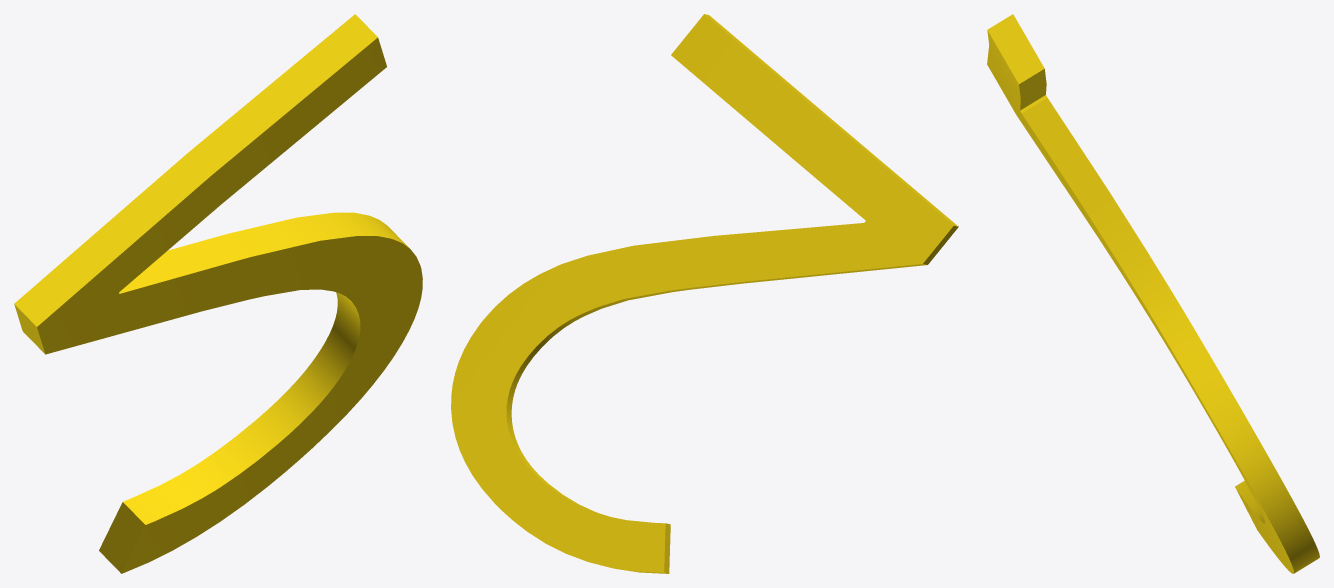
Rendered from Number_2.gltf.
The picture shows the model from 3 angles, left to right: view 1: azimuth 30°, elevation 25°; view 2: azimuth 150°, elevation 25°; view 3: azimuth 270°, elevation 25°; orthographic projection. The views are drawn at different scales.
Parts seen in each view (by area): view 1: Sub_9_Cell_1_2_Number_2; view 2: Sub_9_Cell_1_2_Number_2; view 3: Sub_9_Cell_1_2_Number_2.
Boxes of the visible parts, <box> form: Sub_9_Cell_1_2_Number_2: <box>14,14,422,573</box>; Sub_9_Cell_1_2_Number_2: <box>451,14,958,573</box>; Sub_9_Cell_1_2_Number_2: <box>987,14,1319,573</box>.
Bounding box in the file's own units: 0.0227 × 0.0258 × 0.0139.
